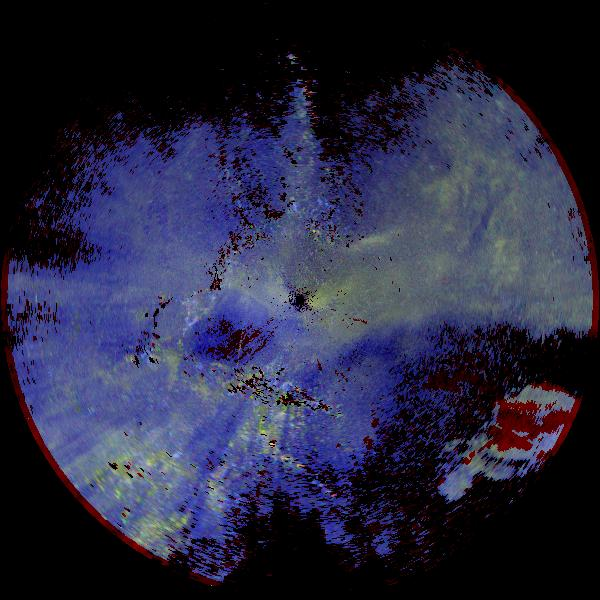roost: (134, 340, 191, 397)
